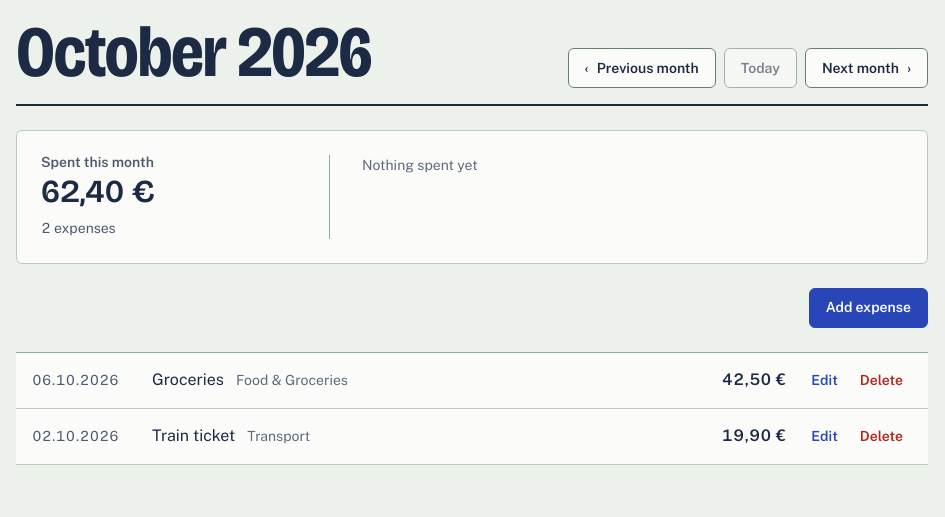
Test: month navigation › Previous, Today and Next change the month, the URL and refetch
Expected: the list named "Expenses in" is shown, [16,352,928,465]
Click the button "‹ Previous month": (642, 68) [568,48,716,88]
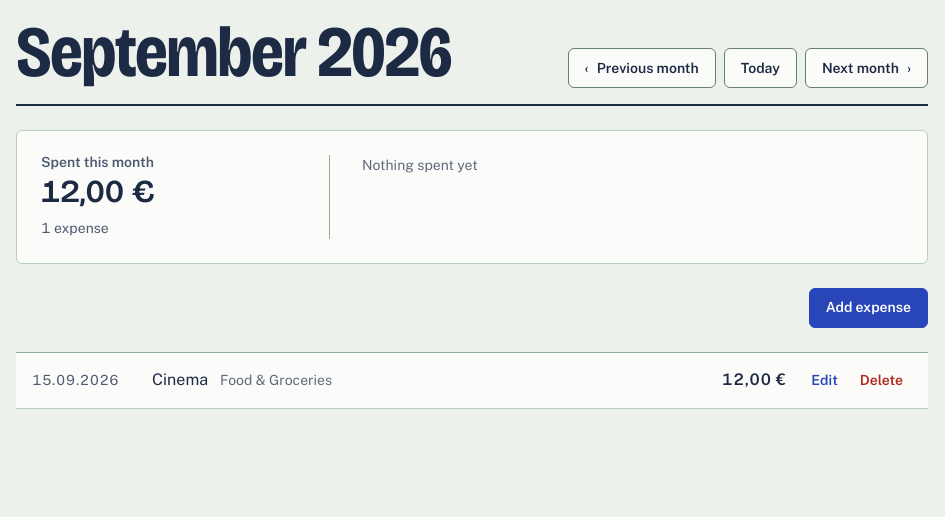
Now the heading "September 2026" is shown, box [16,16,452,88]
Now the text "Cinema" is shown, box [152,368,208,392]
Click the button "Today": (760, 68) [724,48,797,88]
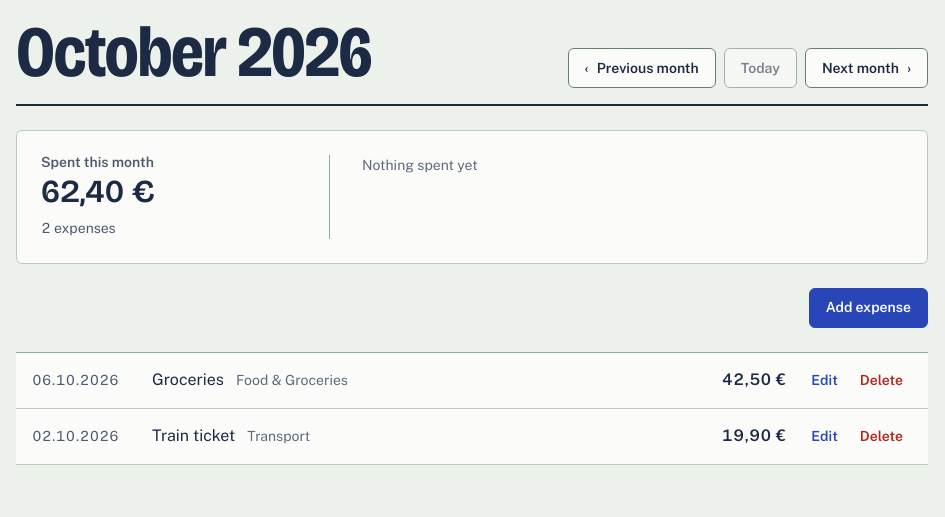
Now the heading "October 2026" is shown, box [16,16,372,88]
Now the text "Groceries" is shown, box [152,368,224,392]
Click the button "Next month ›": (866, 68) [805,48,928,88]
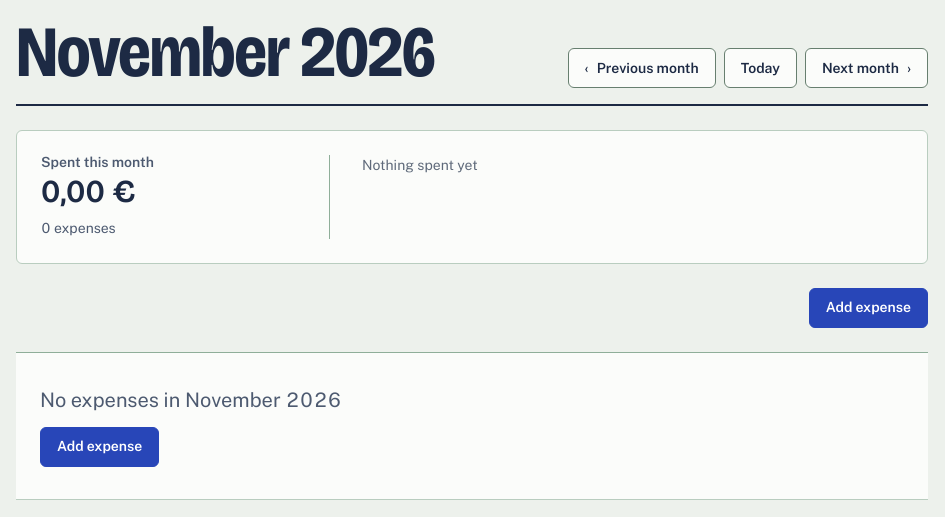
Now the heading "November 2026" is shown, box [16,16,435,88]
Now the text "No expenses in November 2026" is shown, box [40,385,342,415]
